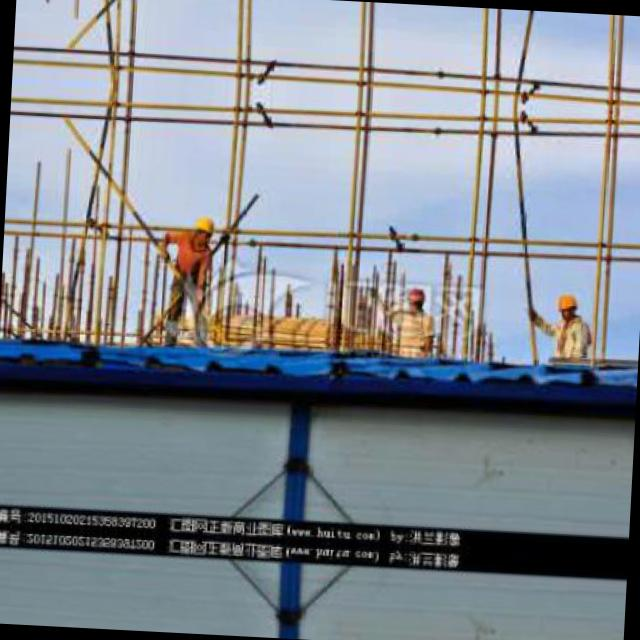helmet: (182, 213, 224, 254), (402, 284, 430, 320), (552, 290, 578, 324)
